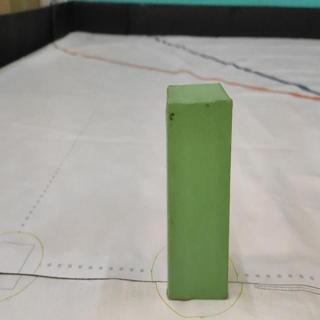greenbox: (165, 83, 232, 301)
